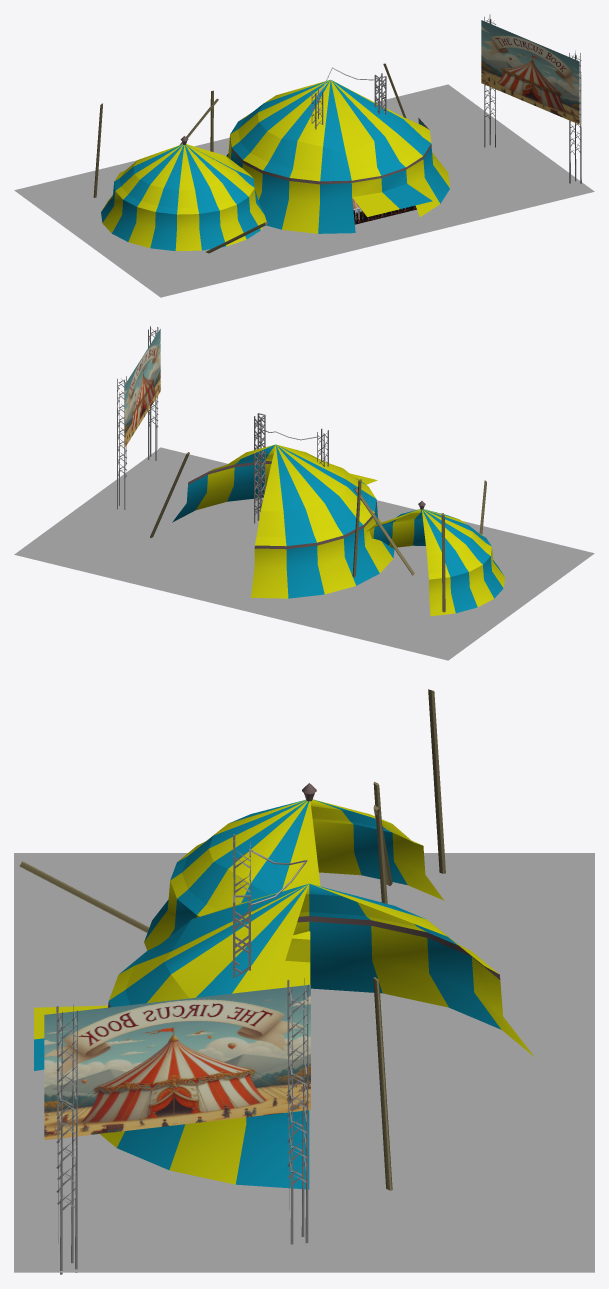
Rendered from RANBO C z FBX.fbx.
3 views of the same model, one above another, from view 1: azimuth 30°, elevation 25°; view 2: azimuth 150°, elevation 25°; view 3: azimuth 270°, elevation 25° (orthographic). The views are drawn at different scales.
Visible parts, largest first — view 1: pCone3, pPlane16, pCube27, pCylinder12, pPlane18, pCube22; view 2: pPlane16, pCone3, pCube27, pCylinder12, pCube22; view 3: pPlane16, pCone3, pCube27, pCylinder12, pCube22.
Boxes of the visible parts, x1=… form: pCone3: x1=101, y1=79, x2=449, y2=251; pPlane16: x1=14, y1=84, x2=594, y2=297; pCube27: x1=481, y1=14, x2=581, y2=183; pCylinder12: x1=93, y1=63, x2=406, y2=253; pPlane18: x1=352, y1=197, x2=416, y2=224; pCube22: x1=374, y1=73, x2=386, y2=114; pPlane16: x1=14, y1=447, x2=594, y2=660; pCone3: x1=172, y1=444, x2=504, y2=616; pCube27: x1=117, y1=326, x2=160, y2=509; pCylinder12: x1=150, y1=452, x2=486, y2=612; pCube22: x1=254, y1=413, x2=265, y2=523; pPlane16: x1=14, y1=853, x2=594, y2=1272; pCone3: x1=34, y1=799, x2=534, y2=1189; pCube27: x1=44, y1=978, x2=310, y2=1274; pCylinder12: x1=19, y1=689, x2=445, y2=1190; pCube22: x1=233, y1=895, x2=250, y2=978.
Bounding box in the file's own units: 49.83 × 15.34 × 29.15.
